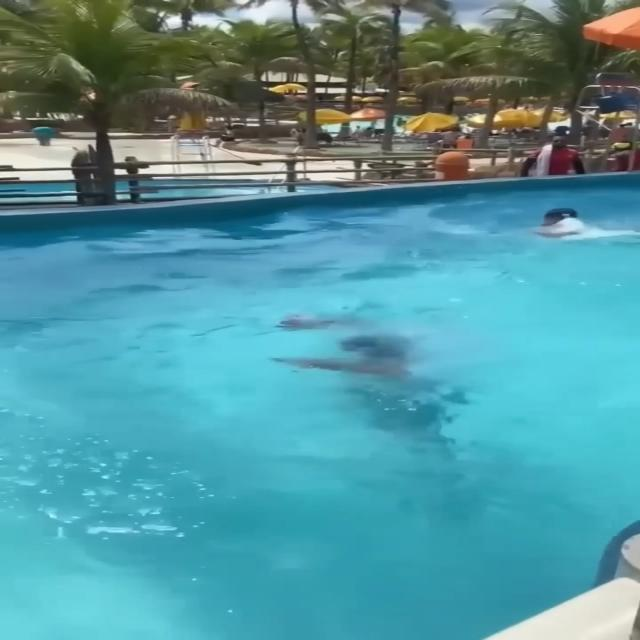Drowning: (264, 306, 470, 482)
Swimming: (492, 198, 614, 246)
